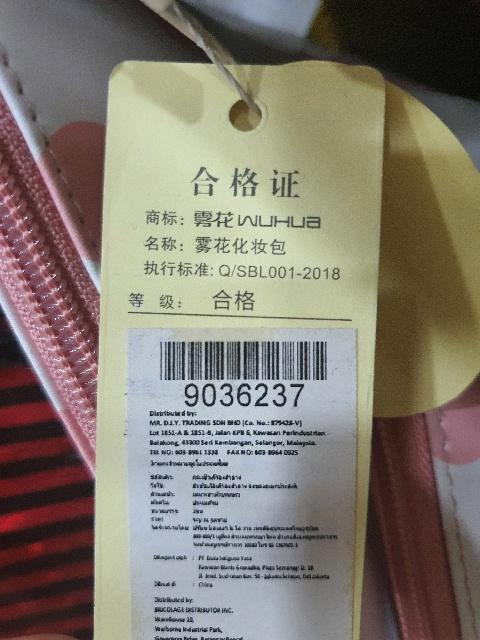Barcode: (153, 335, 335, 409)
